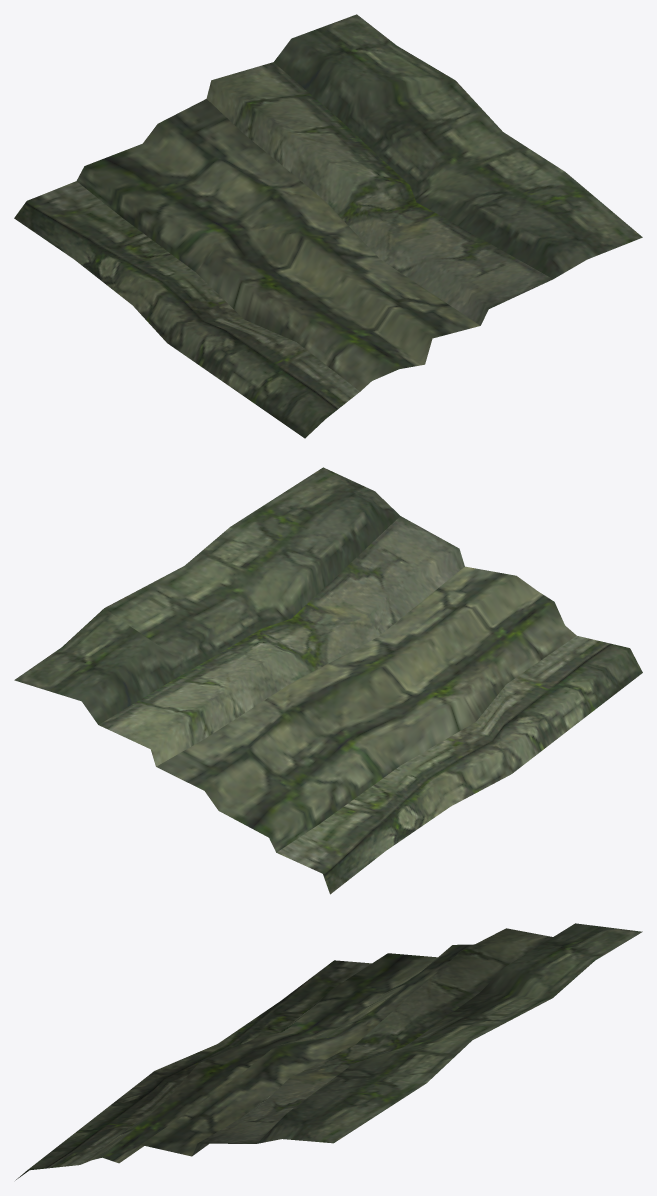
The model's file is s7_fightpve_taijie01.FBX.
3 renders of one model, top to bottom at view 1: azimuth 30°, elevation 25°; view 2: azimuth 150°, elevation 25°; view 3: azimuth 330°, elevation 25°, orthographic. The views are drawn at different scales.
Parts seen in each view (by area): view 1: DrawCall_0049; view 2: DrawCall_0049; view 3: DrawCall_0049.
Part boxes in pixels (bbox=[...]): DrawCall_0049: bbox=[14, 14, 642, 438]; DrawCall_0049: bbox=[14, 467, 642, 894]; DrawCall_0049: bbox=[15, 923, 642, 1180].
Size of the model in its own units: 53.04 by 19.17 by 81.25.
